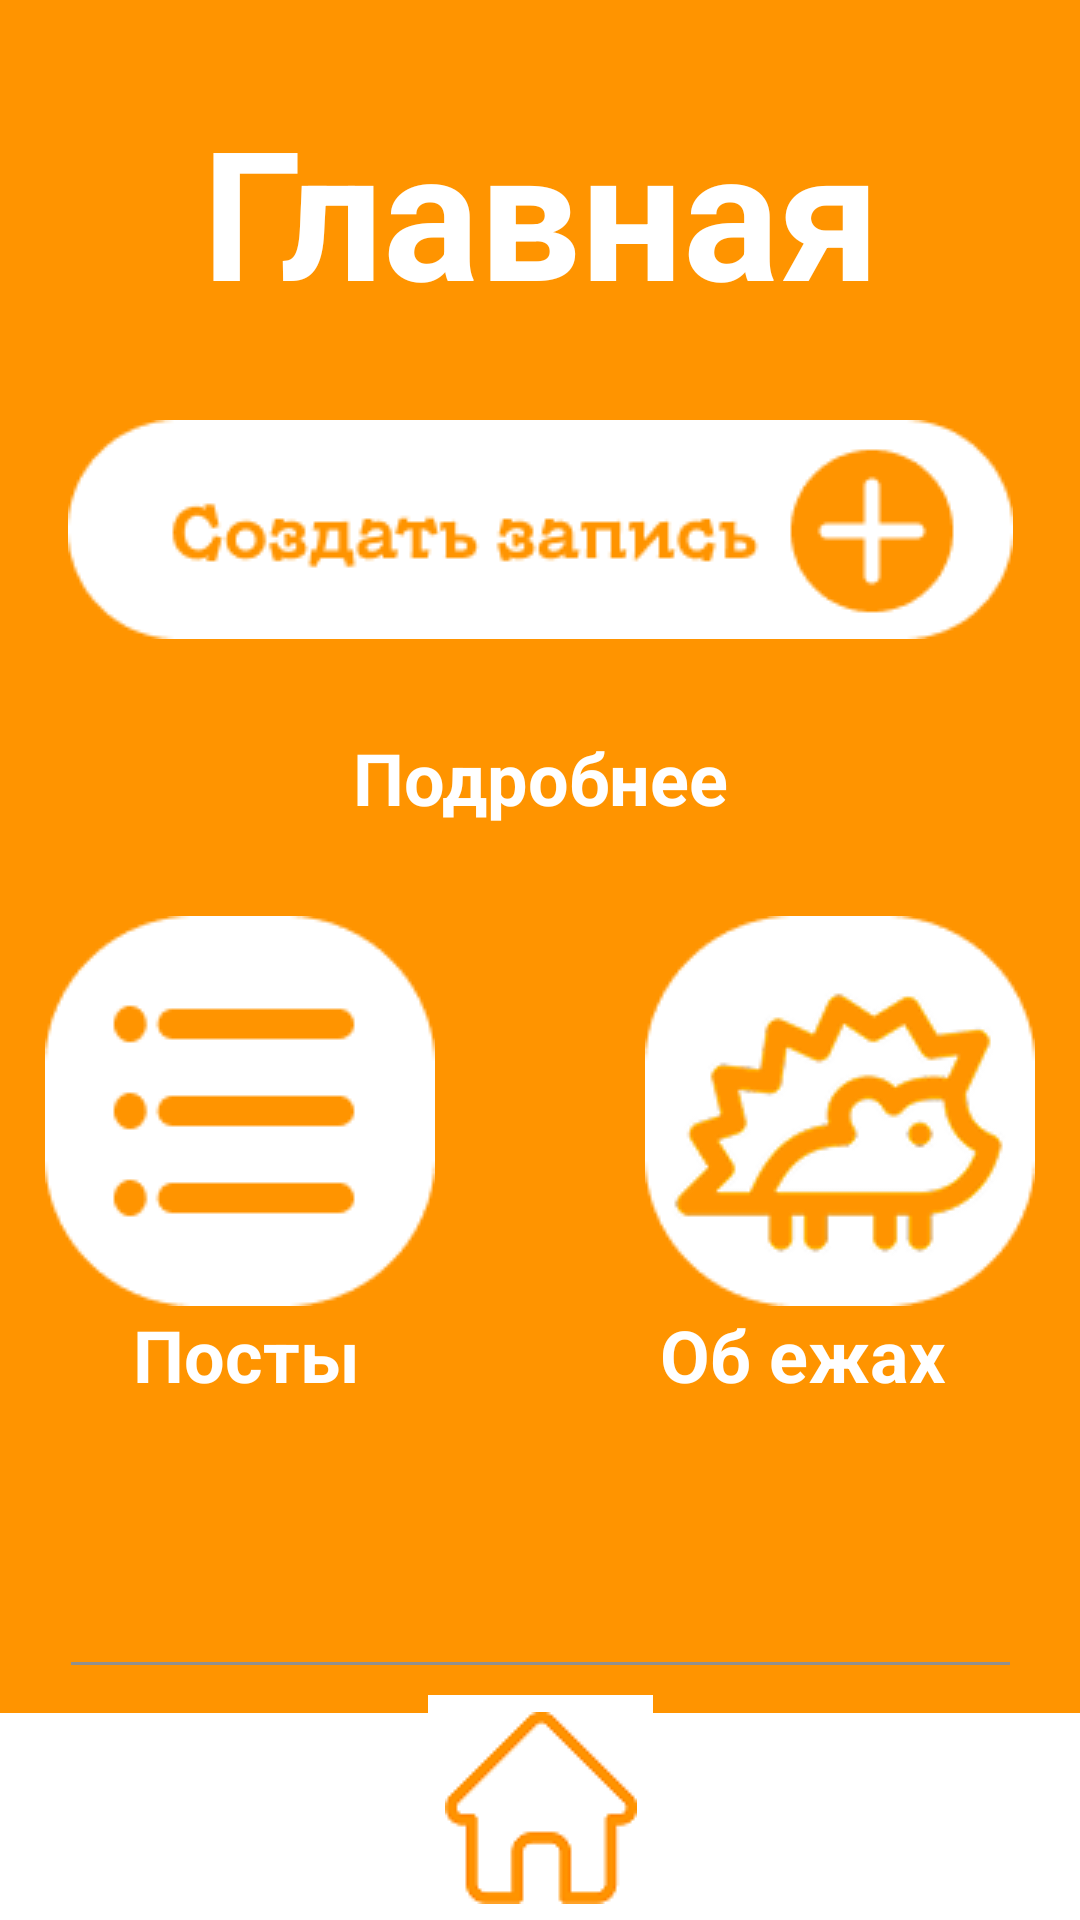

Screen size 1080w x 1920h. Icon name, then its center in pixels as point (x, y):
home: point (541, 1808)
